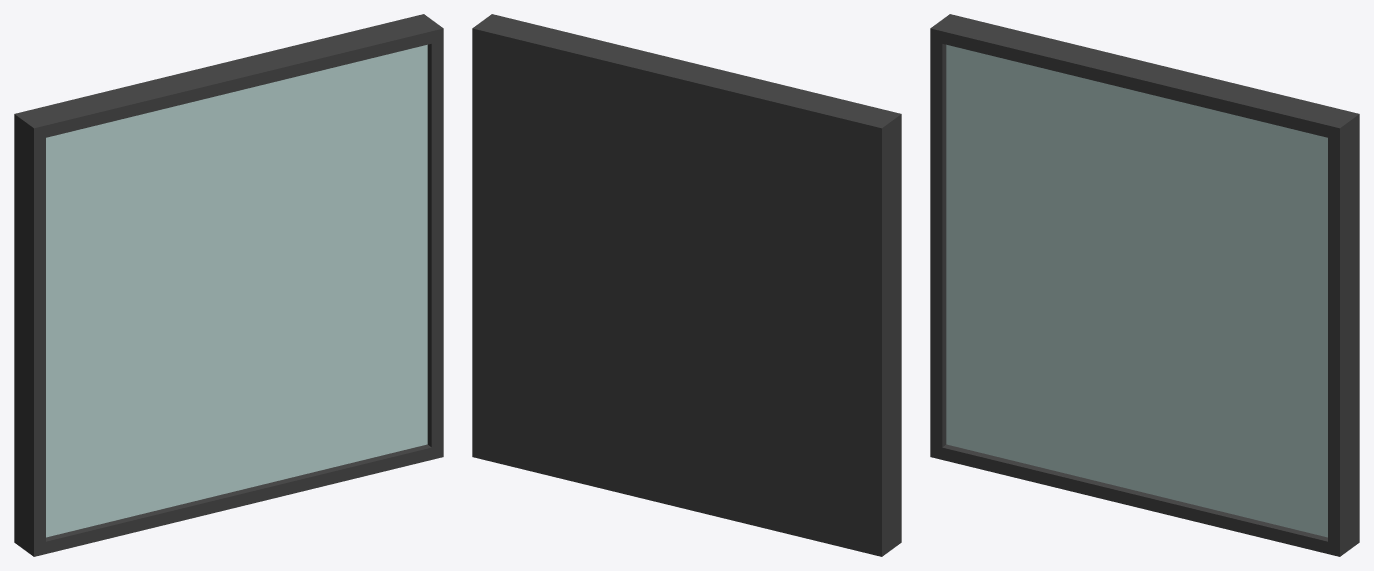
File: Mirror_01_C2.fbx
The picture shows the model from 3 angles, left to right: view 1: azimuth 30°, elevation 25°; view 2: azimuth 150°, elevation 25°; view 3: azimuth 330°, elevation 25°; orthographic projection.
Visible parts, largest first — view 1: Mirror_01_C2; view 2: Mirror_01_C2; view 3: Mirror_01_C2.
Part boxes in pixels (x1,y1,x2,y2): Mirror_01_C2: [14, 14, 443, 556]; Mirror_01_C2: [472, 14, 901, 556]; Mirror_01_C2: [930, 14, 1359, 556].
Bounding box in the file's own units: 60 × 60 × 5.
